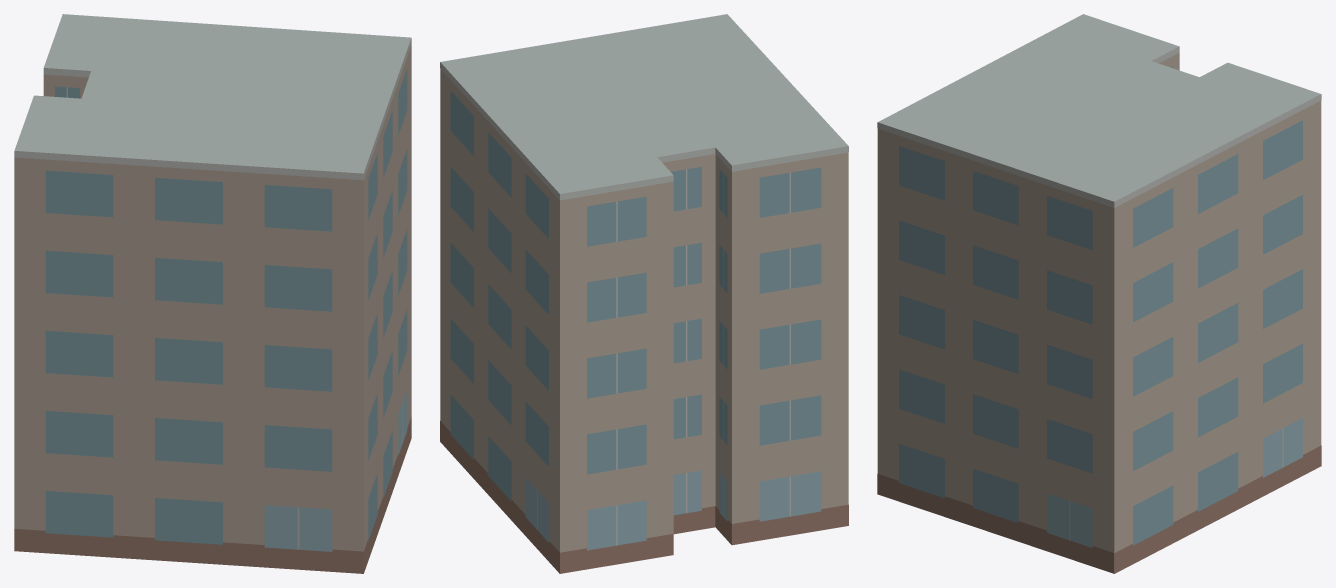
File: survey-upis-32871231.glb
The picture shows the model from 3 angles, left to right: view 1: azimuth 30°, elevation 25°; view 2: azimuth 150°, elevation 25°; view 3: azimuth 270°, elevation 25°; orthographic projection. The views are drawn at different scales.
Visible parts, largest first — view 1: survey-upis-32871231.tmp; view 2: survey-upis-32871231.tmp; view 3: survey-upis-32871231.tmp.
Boxes of the visible parts, x1=… form: survey-upis-32871231.tmp: x1=14, y1=14, x2=411, y2=573; survey-upis-32871231.tmp: x1=440, y1=14, x2=848, y2=573; survey-upis-32871231.tmp: x1=877, y1=14, x2=1321, y2=573.
Bounding box in the file's own units: 15.92 × 14.7 × 15.9.
